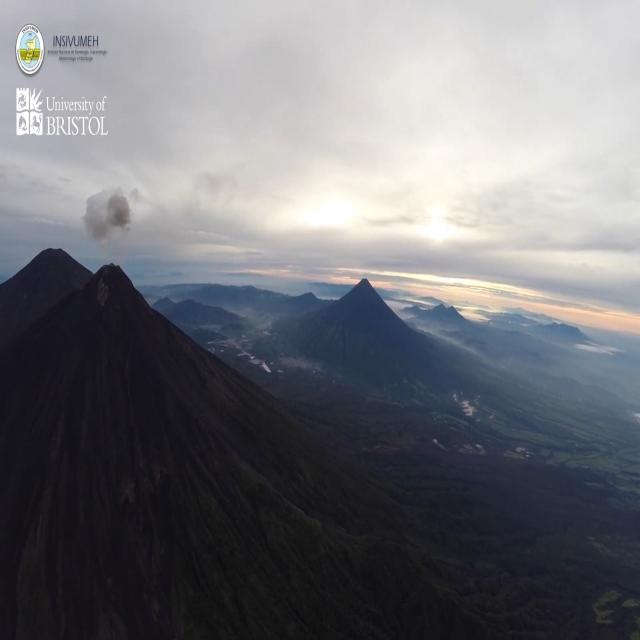Plume: (78, 181, 147, 246)
Summit: (80, 260, 130, 290)
